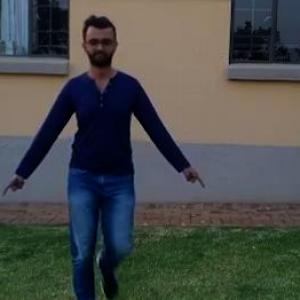land: (13, 31, 186, 294)
